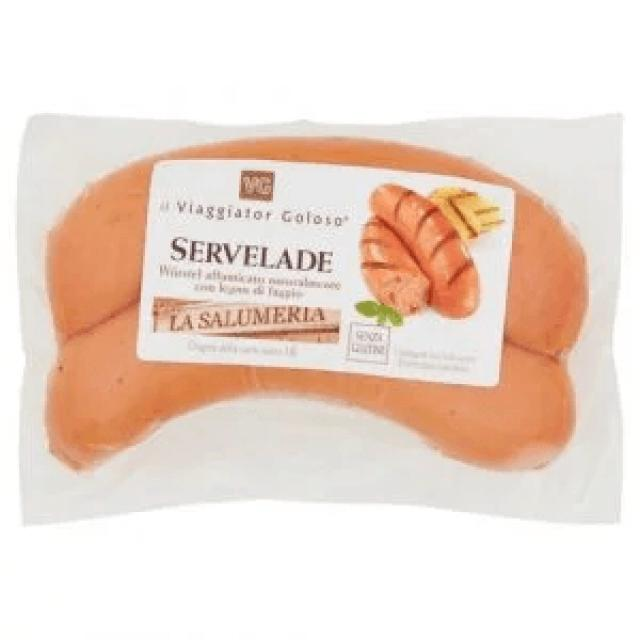ham: (15, 115, 625, 529)
